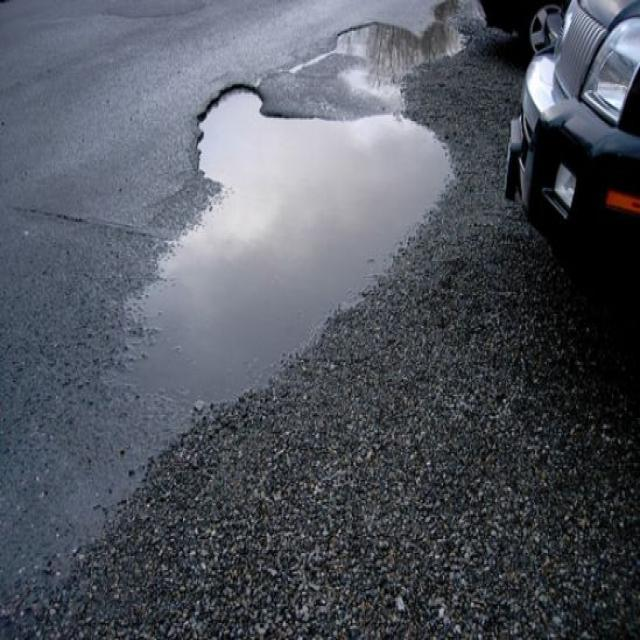pothole: (120, 76, 458, 435), (328, 14, 476, 107)
